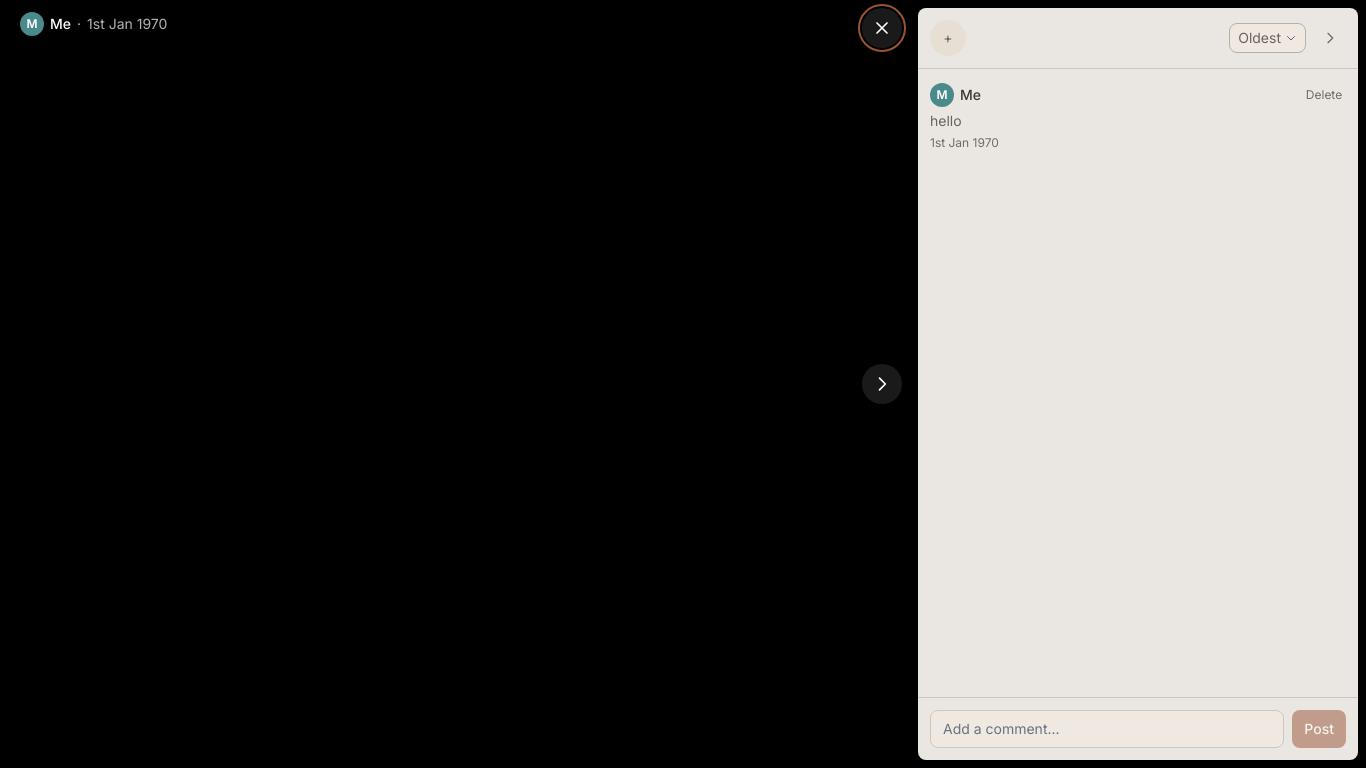
Scenario: Lightbox › does not close the whole lightbox when Escape dismisses the delete dialog
Step 1. Click the button "Delete" → (1324, 95), box x1=1302 y1=73 x2=1346 y2=117
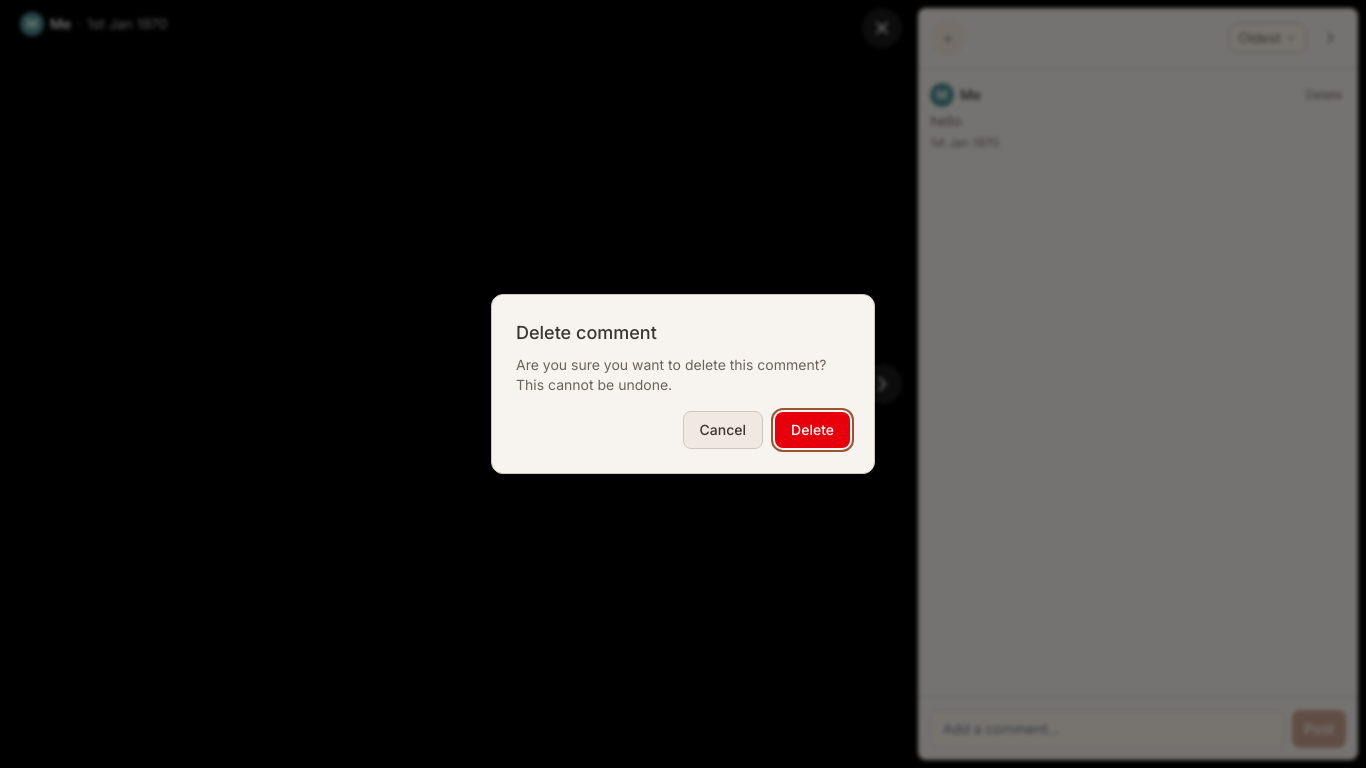
Expected: the heading "Delete comment" is shown, x1=516 y1=322 x2=657 y2=343
Step 2. Press Escape
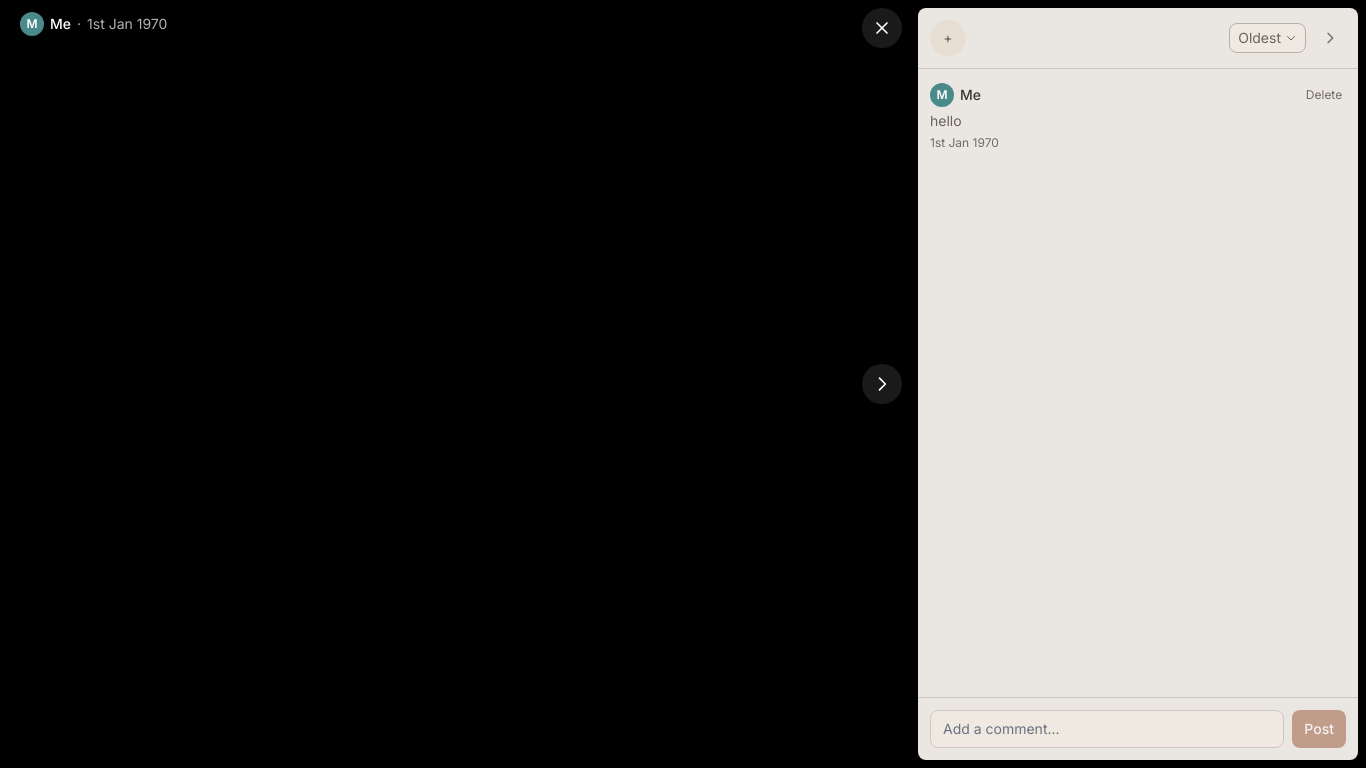
Expected: the heading "Delete comment" is gone
